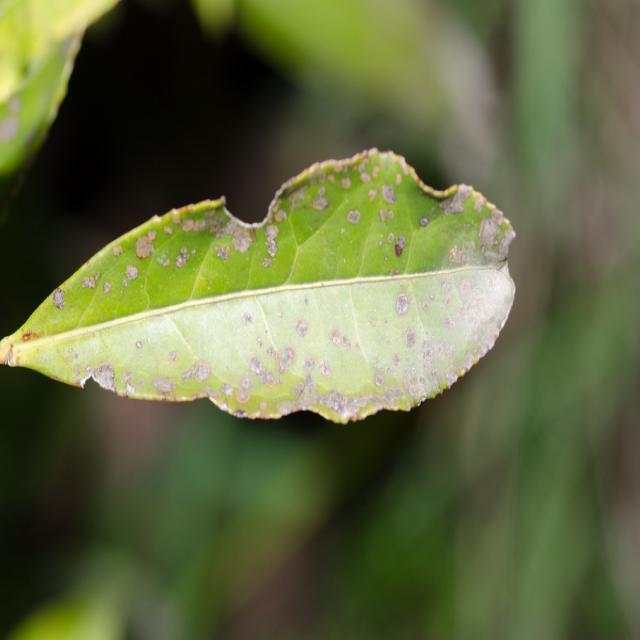Tea red rust: (58, 149, 513, 409)
